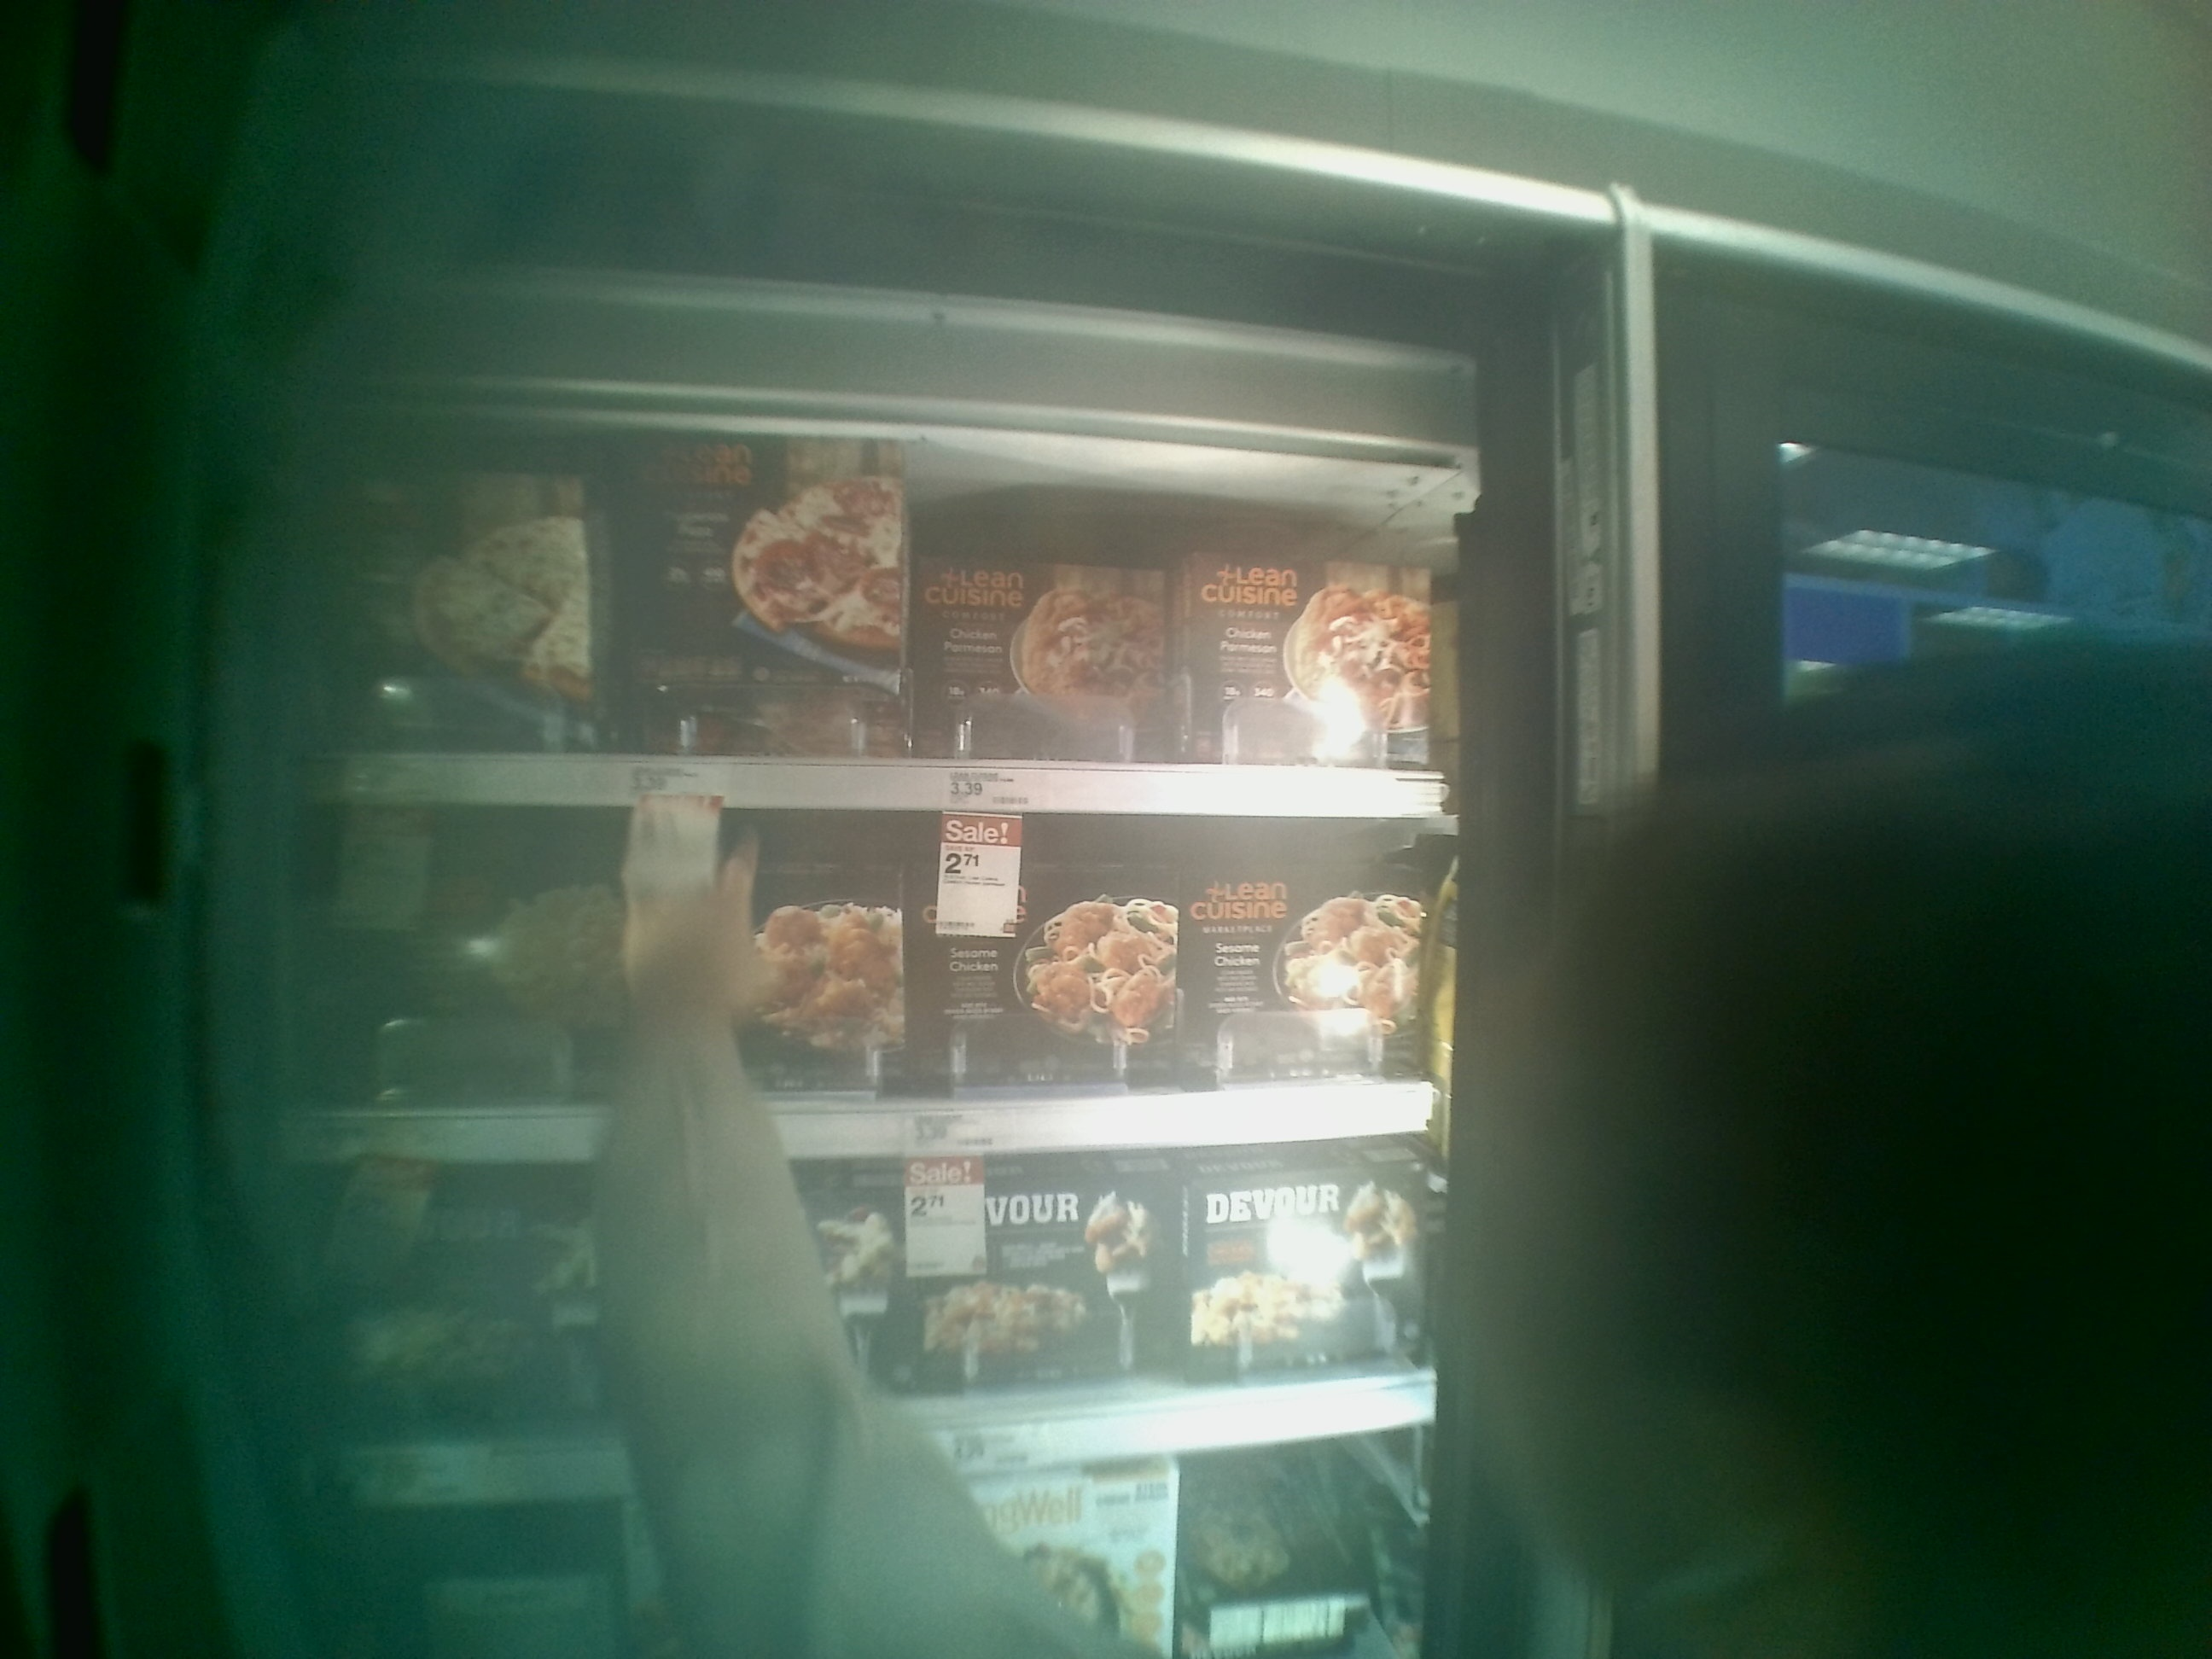shelf: (307, 375, 1463, 814)
